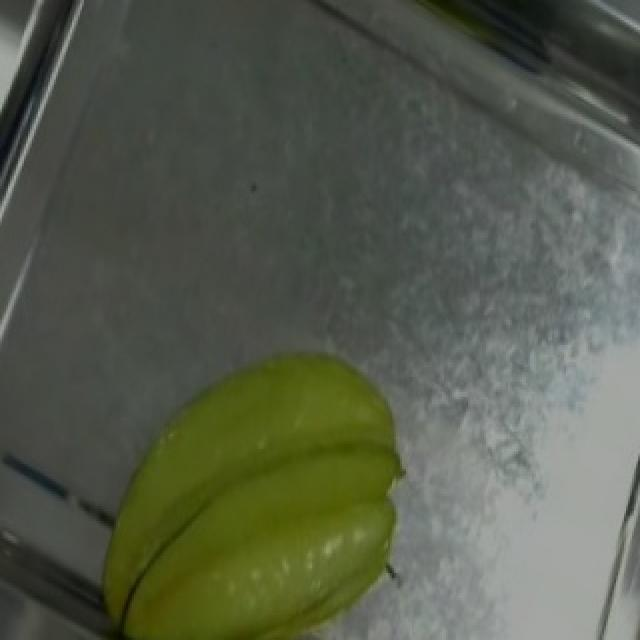fruit: (74, 300, 446, 640)
